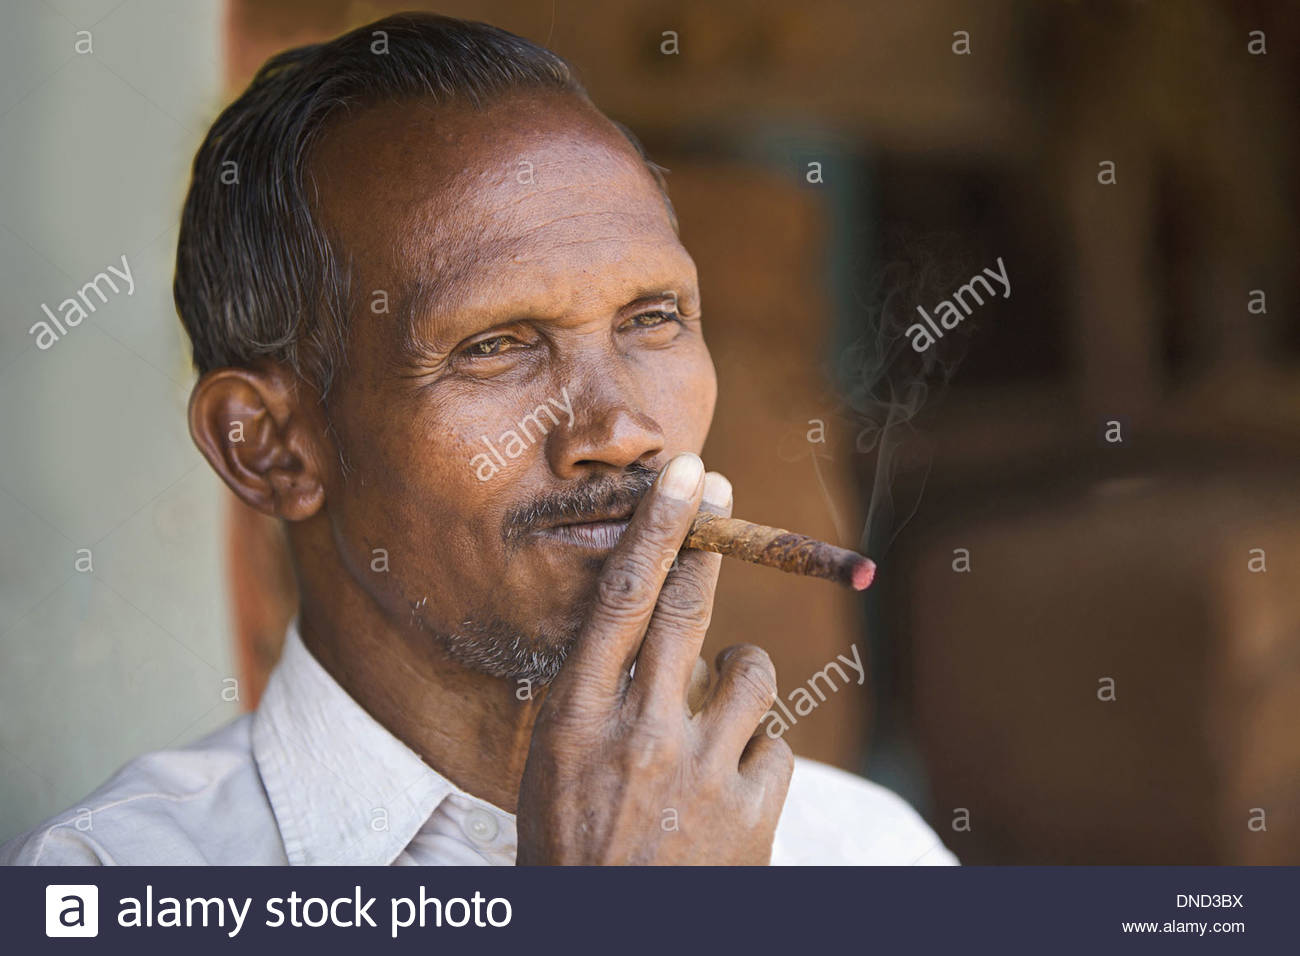cigarette: (693, 514, 884, 592)
